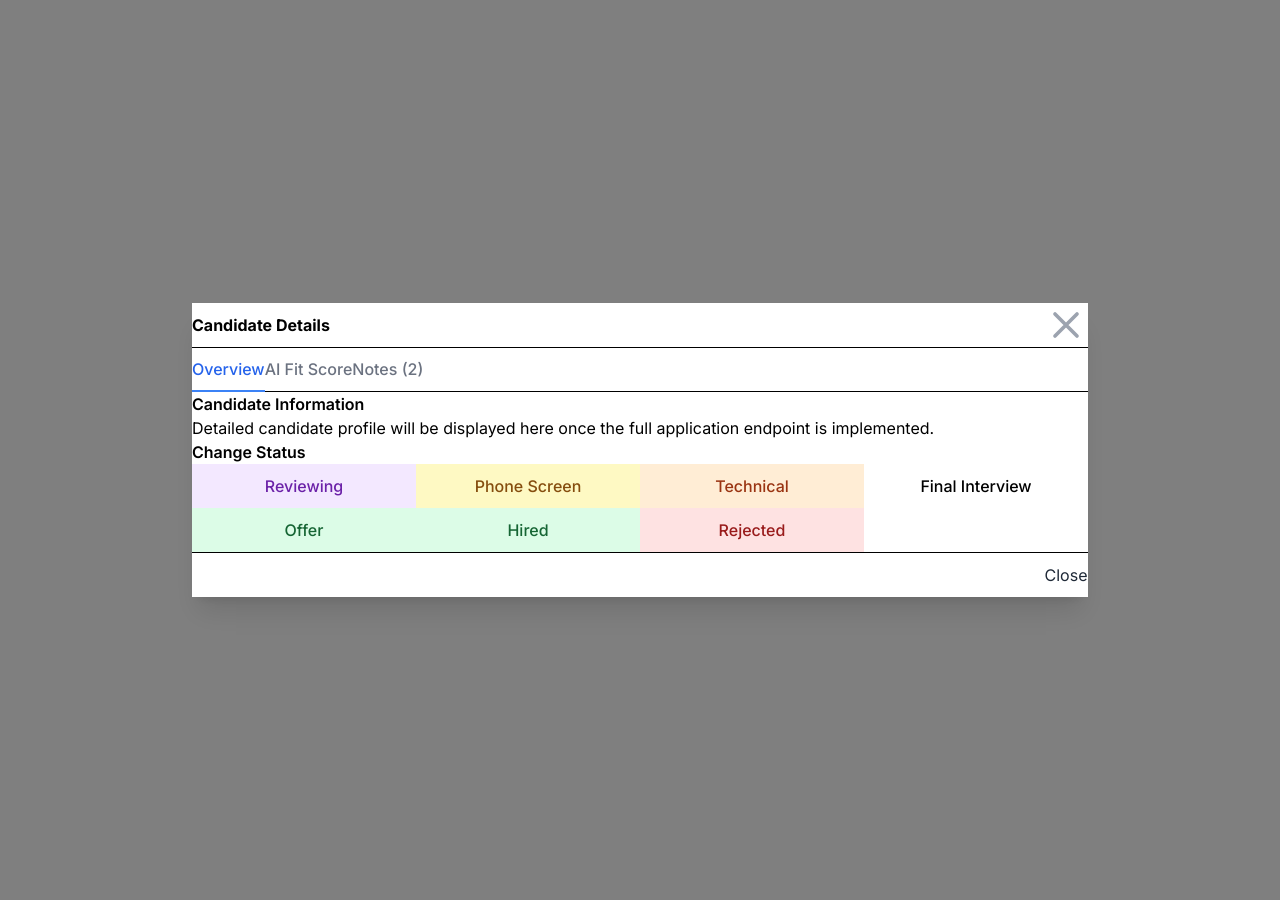
Scenario: CandidateDetailModal Component › Tab Navigation › should switch to Notes tab when clicked
The image size is (1280, 900).
Expected: the heading "Candidate Details" is shown, [192,313,330,337]
Click the button "Notes (2)". click: (388, 370)
box: [352,348,423,392]
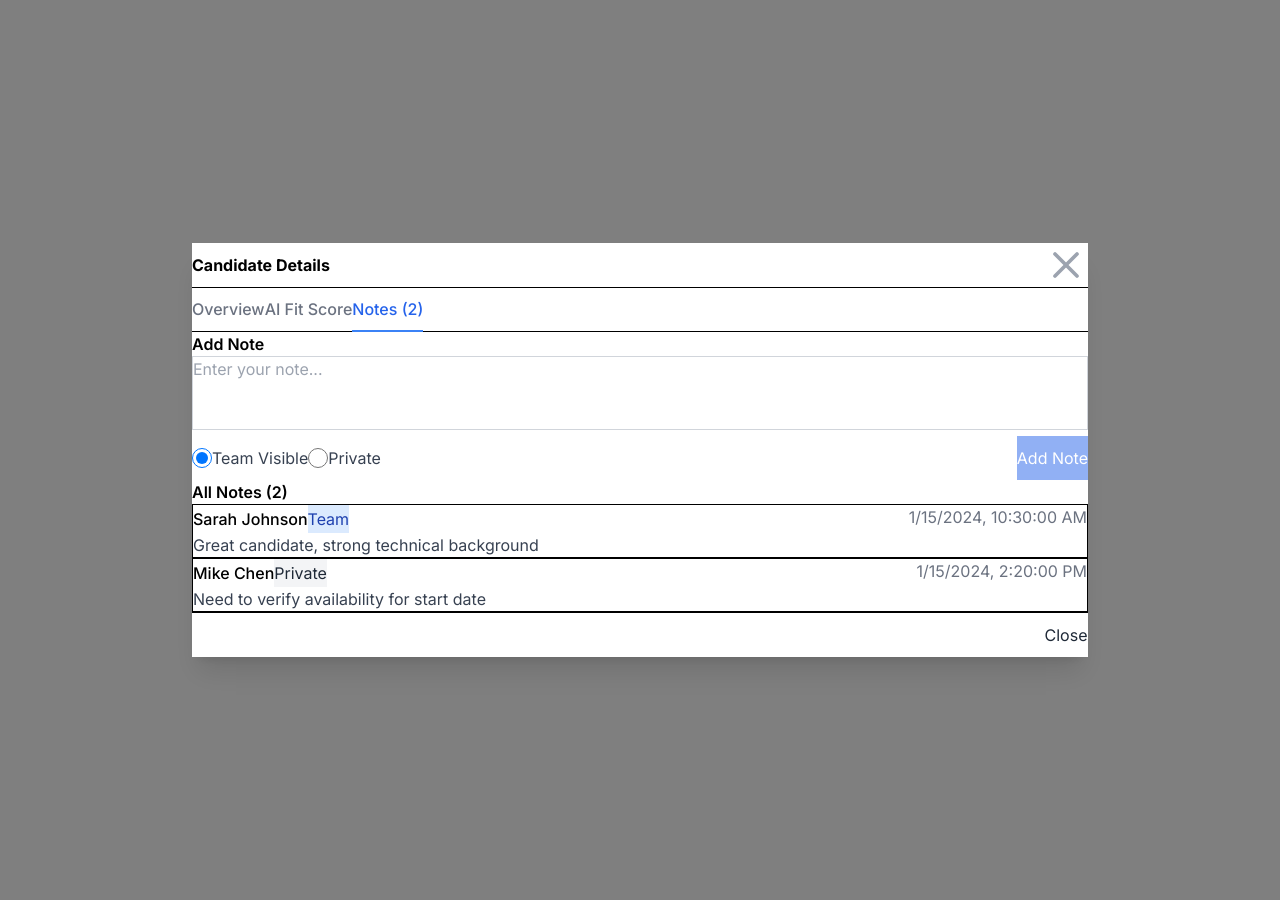
Now the heading "Add Note" is shown, box [192,334,264,354]
